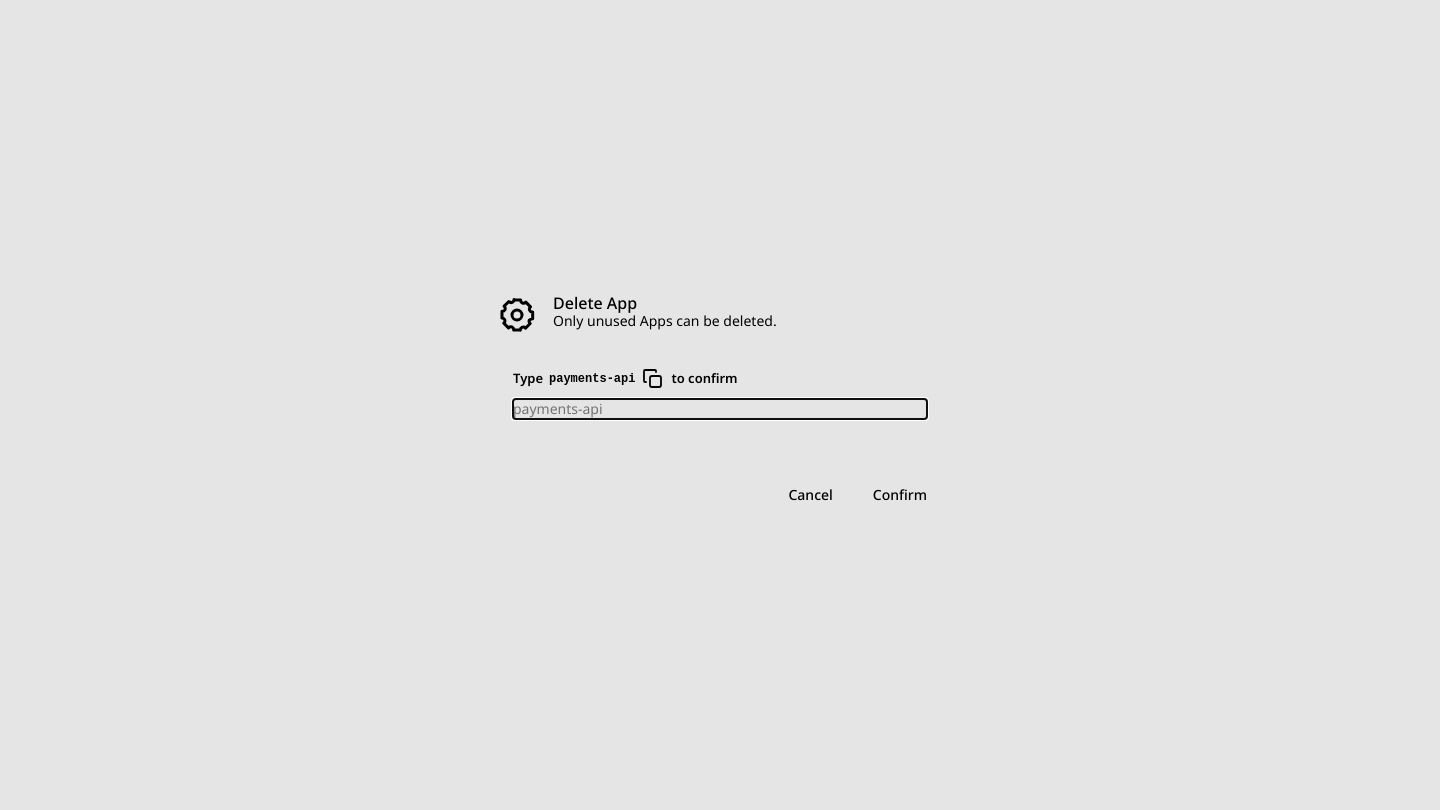
Scenario: ConfirmDialog confirmation phrase › offers the phrase as a copyable value and flags a mismatch
This screenshot has width=1440, height=810.
Expected: the button named "Copy the confirmation phrase: payments-api" is shown, top-left (641, 367), bottom-right (665, 391)
Type "payments" into the field named "Confirm deletion". click: [720, 409]
box: top-left (513, 399), bottom-right (927, 419)
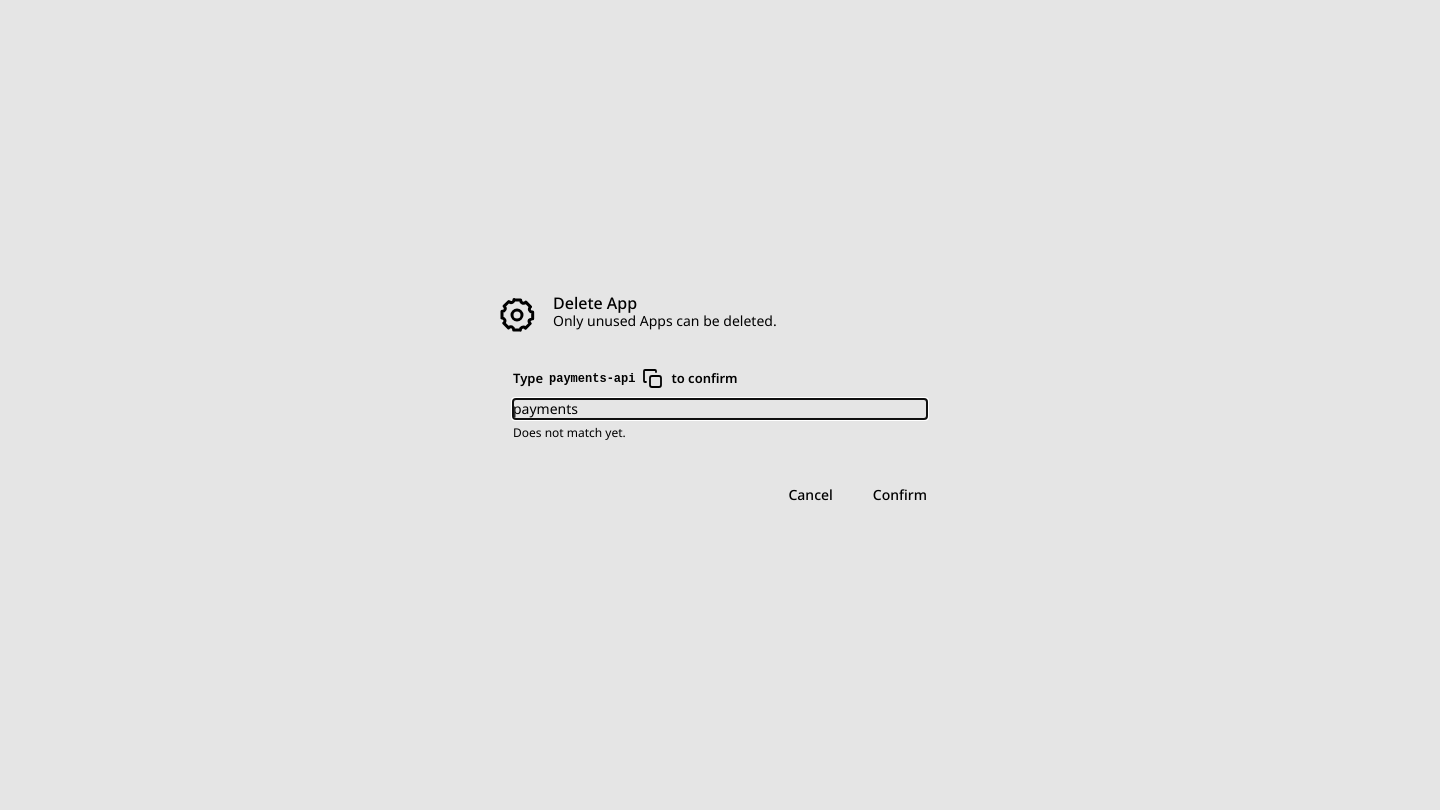
Expected: the text "Does not match yet." is shown, top-left (513, 424), bottom-right (626, 441)
Type "-api" into the field named "Confirm deletion". click: [720, 409]
box: top-left (513, 399), bottom-right (927, 419)
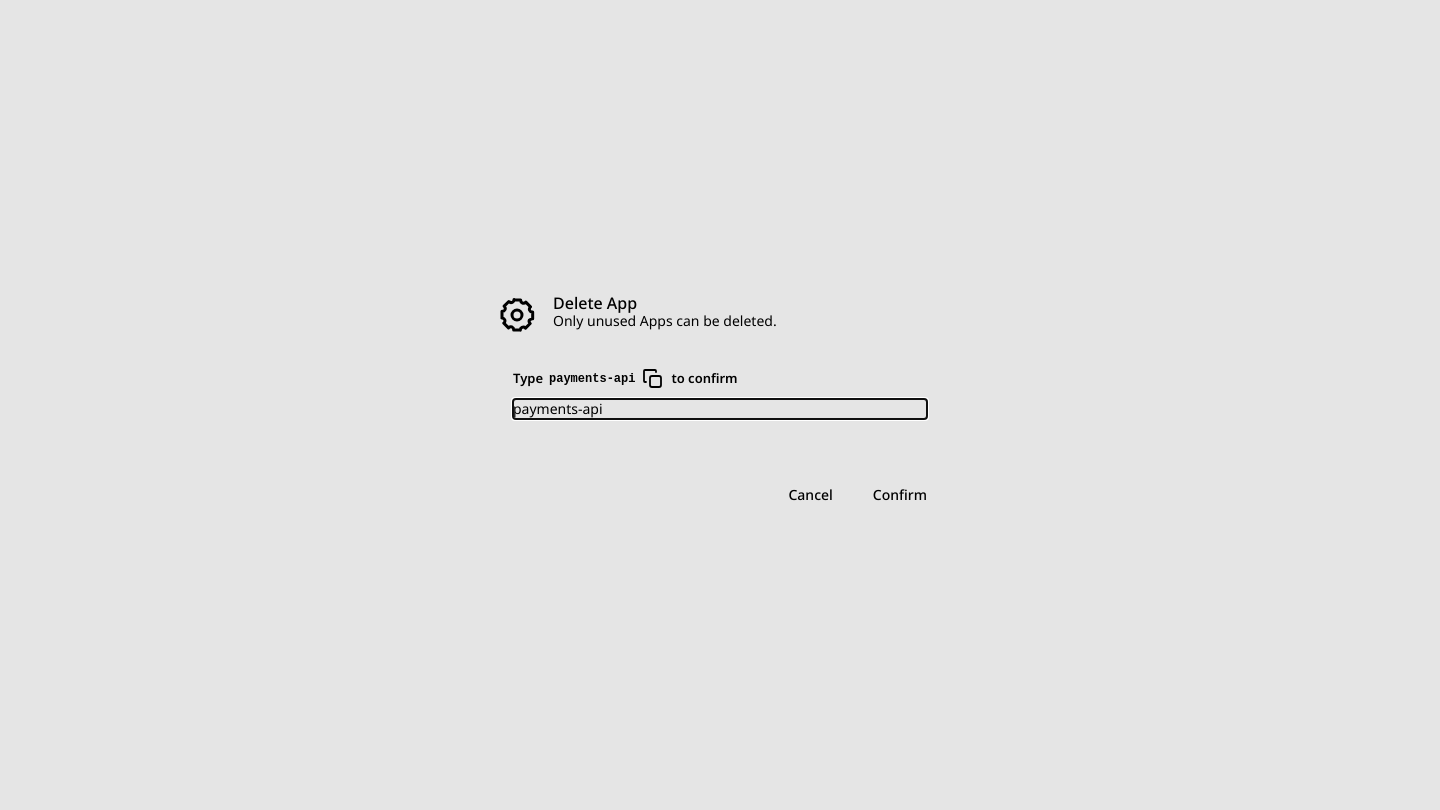
Expected: the text "Does not match yet." is gone
